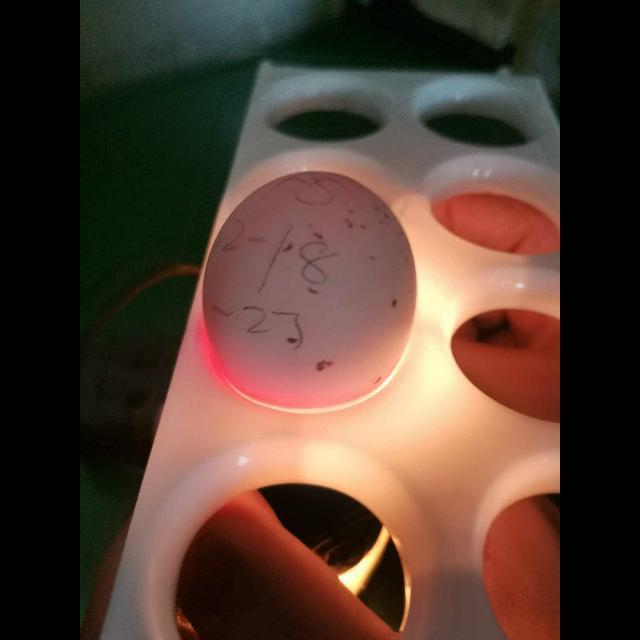A - Good: (198, 152, 436, 421)
